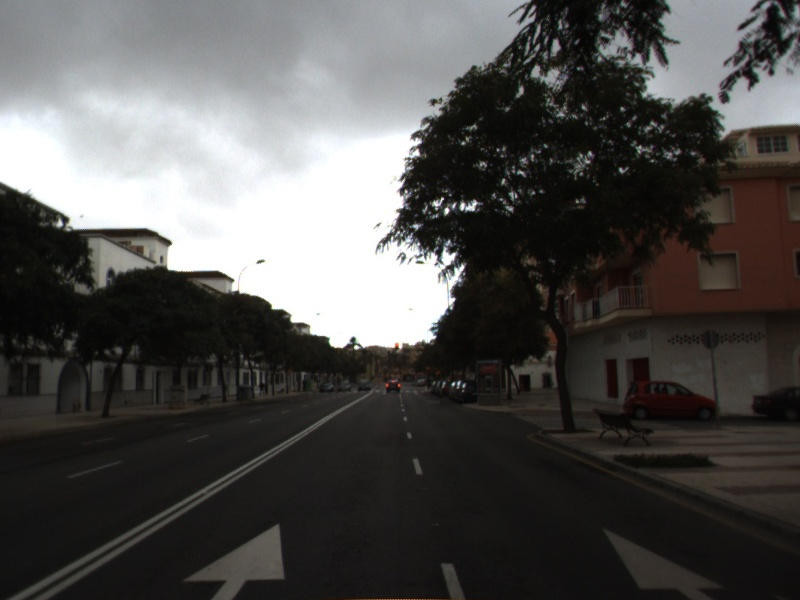STRAIGHT: (600, 526, 726, 600), (179, 520, 288, 600)
